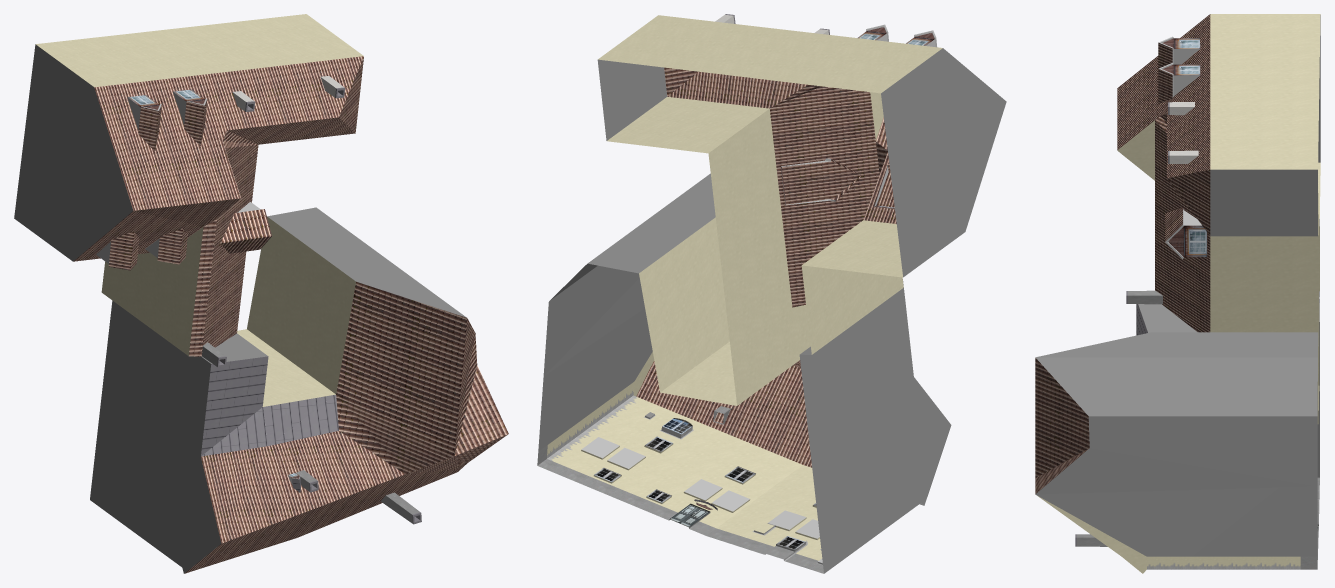
File: Tolli_4_1.obj
3 views of the same model, side by side, from view 1: azimuth 30°, elevation 25°; view 2: azimuth 150°, elevation 25°; view 3: azimuth 270°, elevation 25° (orthographic). The views are drawn at different scales.
Parts seen in each view (by area): view 1: Tolli_4_1; view 2: Tolli_4_1; view 3: Tolli_4_1.
Part boxes in pixels (left/top/right/bottom): Tolli_4_1: left=14, top=14, right=508, bottom=573; Tolli_4_1: left=537, top=14, right=1006, bottom=573; Tolli_4_1: left=1035, top=14, right=1320, bottom=573.
Bounding box in the file's own units: 26.08 × 33.82 × 19.74.
